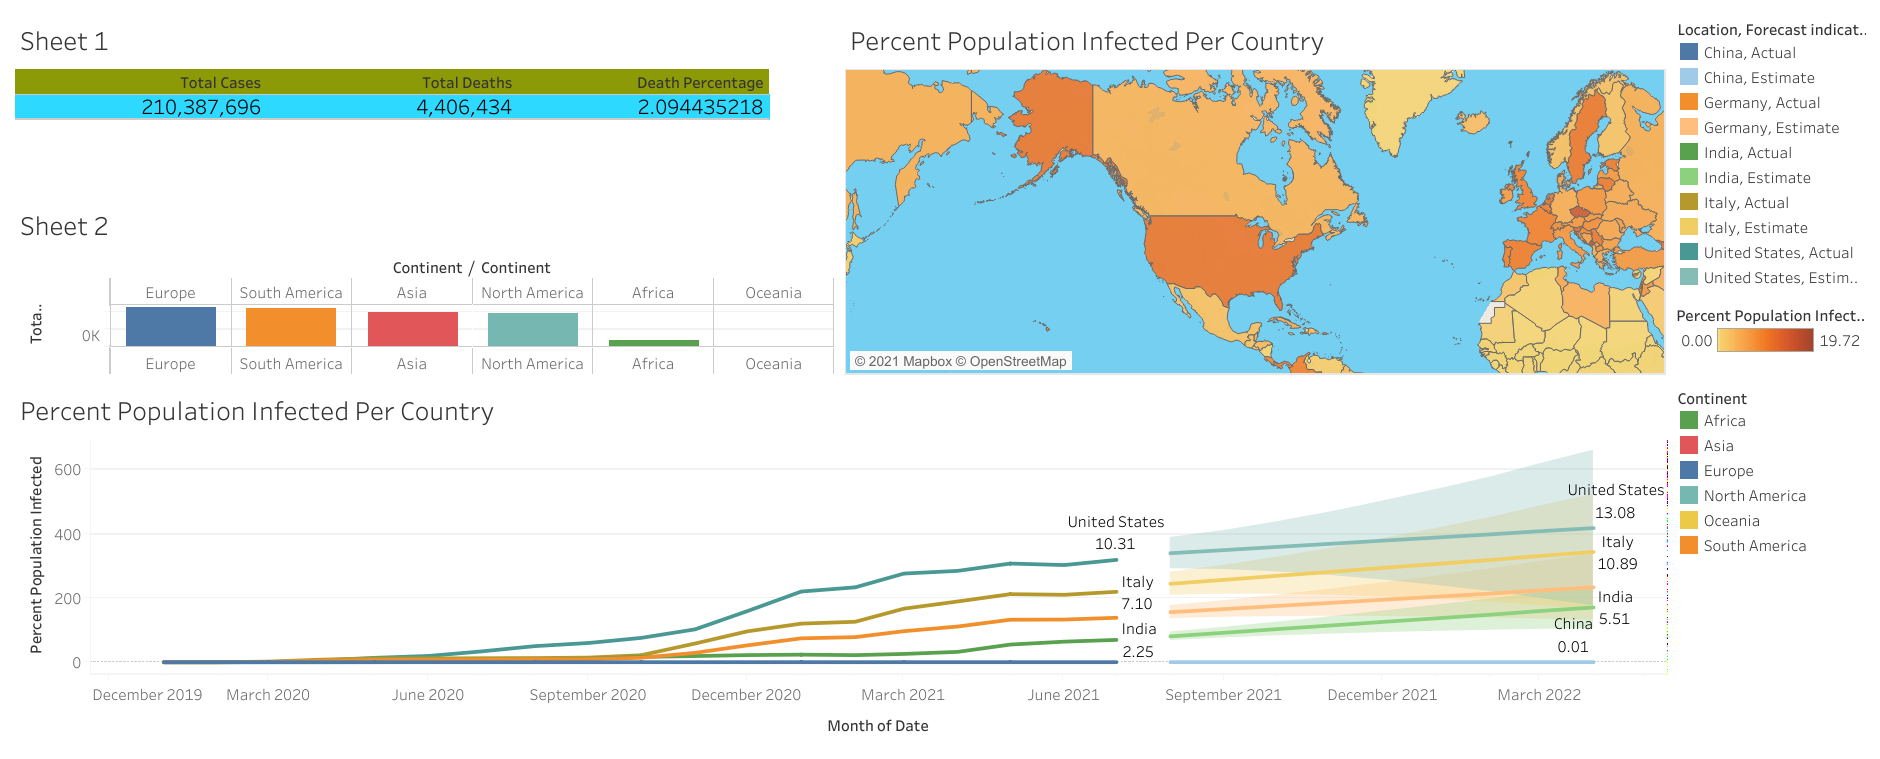

This screenshot's page, from the dashboard's own definition file:
{"tool":"tableau","page":{"name":"Dashboard 1","canvas":[1000,1000],"units":"permille","ordinal":0},"visuals":[{"type":"worksheet","title":"Sheet 1","mark":"Automatic","box":[5,9.3,445.4,245.4]},{"type":"worksheet","title":"Sheet 4","mark":"Automatic","box":[450.3,9.3,445.4,490.7]},{"type":"legend","title":"Sheet 3","param":"[federated.0hbx05g0q03pby1bltvrm1n1khm2].[none:Location:nk]\n[federated.0hbx05g0q","box":[895.7,9.3,99.3,278.7]},{"type":"worksheet","title":"Sheet 2","mark":"Automatic","rows":["TotalDeathCount"],"cols":["location","location"],"box":[5,254.7,445.4,245.3]},{"type":"legend","title":"Sheet 4","param":"[federated.1mez2yc0enyw1j1gm3vkl0zx2dg1].[sum:PercentPopulationInfected:qk]","box":[895.7,288,99.3,84.8]},{"type":"legend","title":"Sheet 2","param":"[federated.16b5zcc1gam15n1cguqx0145fnqg].[none:location:nk]","box":[895.7,372.8,99.3,181.2]},{"type":"worksheet","title":"Sheet 3","mark":"Automatic","rows":["PercentPopulationInfected"],"cols":["date"],"box":[5,500,890.7,490.7]}]}

Visuals, with their boxes on the dashboard's canvas, which has no fixed pixel size, in thousandths of its width and height (x1, y1, x2, y2). These are canvas units, not pixel positions in the 1880x759 screenshot, which may show the page scaled, cropped or inside an application window:
"Sheet 1" worksheet: detection(5, 9, 450, 255)
"Sheet 4" worksheet: detection(450, 9, 896, 500)
"Sheet 3" legend: detection(896, 9, 995, 288)
"Sheet 2" worksheet: detection(5, 255, 450, 500)
"Sheet 4" legend: detection(896, 288, 995, 373)
"Sheet 2" legend: detection(896, 373, 995, 554)
"Sheet 3" worksheet: detection(5, 500, 896, 991)
